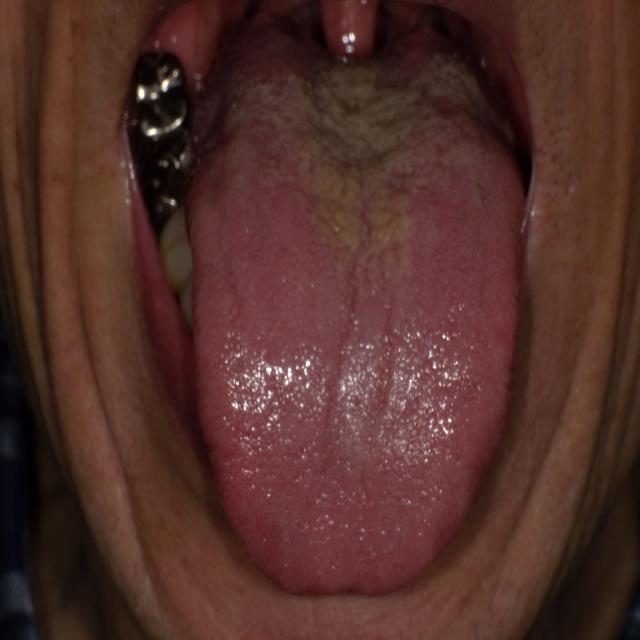hongshe: (185, 53, 525, 595)
huangtaishe: (185, 53, 525, 595)
liewenshe: (321, 175, 399, 412)
shenquao: (288, 54, 437, 174)
